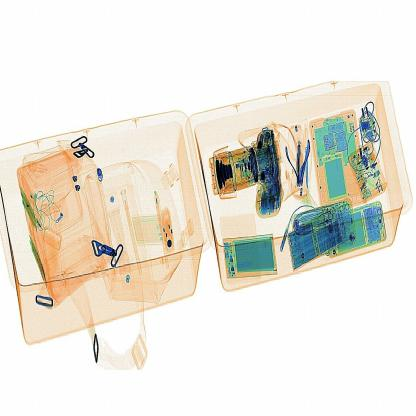knife: (286, 134, 317, 192)
